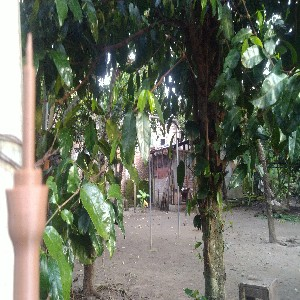solder: (5, 32, 51, 300)
